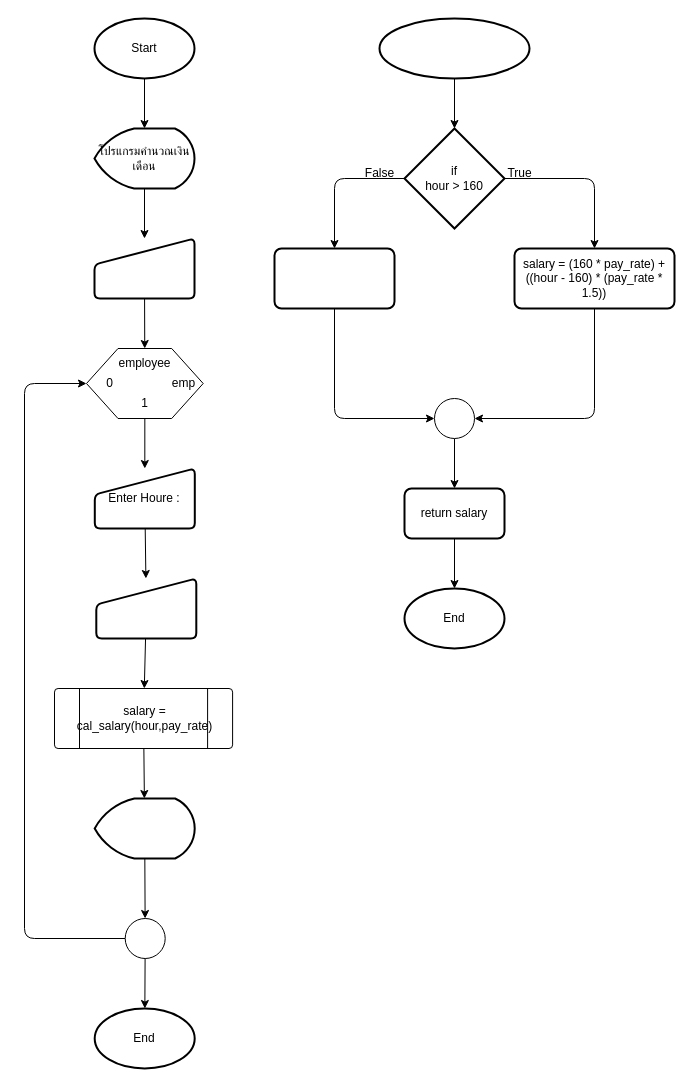
The diagram is 693 pixels wide and 1086 high, and some of its shapes have lost their labels. Each missing label, with the centre of its shape:
"cal_salary(hour ,pay_rate)" belongs at pixel 454 48.
"emp = ใส่จำนวนพนักงาน" belongs at pixel 144 268.
"Enter Pay rate" belongs at pixel 146 608.
"print Salary" belongs at pixel 144 828.
"salary = hour * pay_rate" belongs at pixel 334 278.
